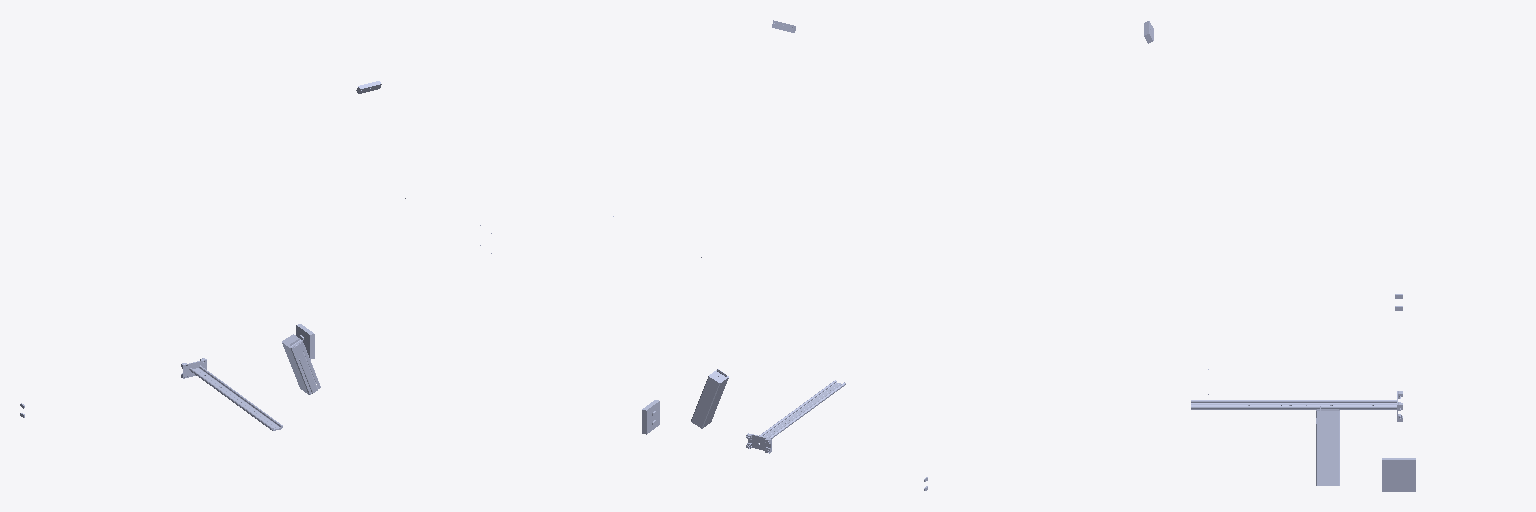
--- Render facts (derived) ---
3 views of the same robot in one strip: view 1: azimuth 30°, elevation 25°; view 2: azimuth 150°, elevation 25°; view 3: azimuth 270°, elevation 25° (orthographic).
Robot: robo_description — 21 links, 20 joints (2 revolute, 2 prismatic, 16 fixed); root link base_link; default pose: all joints at 0 but 1 set to mid-range because 0 is outside their limits (joint5 = 0.4665).
Links seen in each view (by area): view 1: link2, link5; view 2: link2, link5, base_link; view 3: link2, link5, base_link.
Link boxes in pixels (x1,y1,x2,y2): link2: (181, 358, 282, 430); link5: (282, 334, 320, 394); link2: (746, 380, 845, 453); link5: (691, 369, 728, 428); base_link: (642, 400, 927, 490); link2: (1191, 391, 1402, 421); link5: (1316, 406, 1339, 485); base_link: (1382, 294, 1415, 491).
Bounding box of the posed robot: 1.65 × 0.7952 × 1.46 m (x, y, z).
Meshes: 6 distinct files referenced, 4 mesh visuals loaded (4 binary STL); not drawn: 2 (reference not matched to a file when rendering).

robot.urdf — robo_description:
<?xml version="1.0" encoding="utf-8"?>
<!-- 25AUG2023 Changed the minimum limit of lJoint5 to 0.247 and max to 0.686 -->
<!-- This URDF was automatically created by SolidWorks to URDF Exporter! Originally created by Stephen Brawner ([email redacted]) 
     Commit Version: 1.6.0-4-g7f85cfe  Build Version: 1.6.7995.38578
     For more information, please see http://wiki.ros.org/sw_urdf_exporter -->
<robot
  name="robo_description">
  <link
    name="base_link">
    <inertial>
      <origin
        xyz="-5.13826234849775E-17 -1.63904738952765E-17 0.339473684210526"
        rpy="0 0 0" />
      <mass
        value="19" />
      <inertia
        ixx="2.34956140350877"
        ixy="1.11311423041845E-17"
        ixz="3.69215798456927E-16"
        iyy="2.34956140350877"
        iyz="-7.44985984223617E-17"
        izz="0.151666666666667" />
    </inertial>
    <visual>
      <origin
        xyz="0 0 0"
        rpy="0 0 0" />
      <geometry>
        <mesh
          filename="package://robo_description/meshes/base_link.STL" />
      </geometry>
      <material
        name="">
        <color
          rgba="0.792156862745098 0.819607843137255 0.933333333333333 1" />
      </material>
    </visual>
    <collision>
      <origin
        xyz="0 0 0"
        rpy="0 0 0" />
      <geometry>
        <mesh
          filename="package://robo_description/meshes/base_link.STL" />
      </geometry>
    </collision>
  </link>
  <link
    name="link2">
    <inertial>
      <origin
        xyz="-0.001261 -0.2858 0.14572"
        rpy="0 0 0" />
      <mass
        value="3.13280329013611" />
      <inertia
        ixx="0.0169430024052603"
        ixy="-0.00280446630124331"
        ixz="0.0223183329111622"
        iyy="0.162057682822749"
        iyz="0.000505061238040558"
        izz="0.161640952999751" />
    </inertial>
    <visual>
      <origin
        xyz="0 0 -1"
        rpy="0 0 0" />
      <geometry>
        <mesh
          filename="package://robo_description/meshes/link2.STL" />
      </geometry>
      <material
        name="">
        <color
          rgba="0.792156862745098 0.819607843137255 0.933333333333333 1" />
      </material>
    </visual>
    <collision>
      <origin
        xyz="0 0 0"
        rpy="0 0 0" />
      <geometry>
        <mesh
          filename="package://robo_description/meshes/link2.STL" />
      </geometry>
    </collision>
  </link>
  <joint
    name="joint2"
    type="prismatic">
    <origin
      xyz="0.0 0 1"
      rpy="0 0 0" />
    <parent
      link="base_link" />
    <child
      link="link2" />
    <axis
      xyz="0 0 1" />
    <limit
      lower="0"
      upper="1"
      effort="0"
      velocity="0" />
  </joint>
  <link
    name="link4">
    <inertial>
      <origin
        xyz="-0.000438554587764983 0.0620490502692163 -0.172885898172371"
        rpy="0 0 0" />
      <mass
        value="0.162146723185788" />
      <inertia
        ixx="0.00336616371871891"
        ixy="1.46811284877534E-06"
        ixz="-3.57096843523024E-06"
        iyy="0.00312866852492012"
        iyz="0.00048231220150353"
        izz="0.000338308018448651" />
    </inertial>
    <visual>
      <origin
        xyz="-0.4665 0 -0.790"
        rpy="0 0 0" />
      <geometry>
        <mesh
          filename="package://robo_description/meshes/link4.STL" />
      </geometry>
      <material
        name="">
        <color
          rgba="0.792156862745098 0.819607843137255 0.933333333333333 1" />
      </material>
    </visual>
    <collision>
      <origin
        xyz="0 0 0"
        rpy="0 0 0" />
      <geometry>
        <mesh
          filename="package://robo_description/meshes/link4.STL" />
      </geometry>
    </collision>
  </link>
  <joint
    name="joint4"
    type="revolute">
    <origin
      xyz="0.46904 0 -0.21"
      rpy="0 0 0" />
    <parent
      link="link2" />
    <child
      link="link4" />
    <axis
      xyz="0 0 1" />
    <limit
      lower="-2.9671"
      upper="2.9671"
      effort="0"
      velocity="0" />
  </joint>
  <link
    name="link3">
    <inertial>
      <origin
        xyz="-0.0832189655707039 -0.0894795892974461 -0.00179630042130147"
        rpy="0 0 0" />
      <mass
        value="1.71811977068641" />
      <inertia
        ixx="0.00948440583507882"
        ixy="-0.00159429497921182"
        ixz="0.00308193362516688"
        iyy="0.035537875179704"
        iyz="0.000648421421055908"
        izz="0.0305779645247813" />
    </inertial>
    <visual>
      <origin
        xyz="-0.468545 -0.078 -0.43528"
        rpy="0 0 0" />
      <geometry>
        <mesh
          filename="package://robo_description/meshes/link3.STL" />
      </geometry>
      <material
        name="">
        <color
          rgba="0.792156862745098 0.819607843137255 0.933333333333333 1" />
      </material>
    </visual>
    <collision>
      <origin
        xyz="0 0 0"
        rpy="0 0 0" />
      <geometry>
        <mesh
          filename="package://robo_description/meshes/link3.STL" />
      </geometry>
    </collision>
  </link>
  <joint
    name="joint3"
    type="revolute">
    <origin
      xyz="0.0 0.077824 -0.35472"
      rpy="0 0 0" />
    <parent
      link="link4" />
    <child
      link="link3" />
    <axis
      xyz="0 1 0" />
    <limit
      lower="-1.5708"
      upper="1.5708"
      effort="0"
      velocity="0" />
  </joint>
  <link
    name="yanthra_link">
    <inertial>
      <origin
        xyz="-0.0832189655707036 -0.0114795892974462 -0.00179630042130124"
        rpy="0 0 0" />
      <mass
        value="1.71811977068641" />
      <inertia
        ixx="0.00948440583507882"
        ixy="-0.00159429497921182"
        ixz="0.0030819336251669"
        iyy="0.035537875179704"
        iyz="0.000648421421055907"
        izz="0.0305779645247813" />
    </inertial>
    <visual>
      <origin
        xyz="0 0 0"
        rpy="0 0 0" />
      <geometry>
        <box size="0.001 0.001 0.001"/>
      </geometry>
      <material
        name="">
        <color
          rgba="0.792156862745098 0.819607843137255 0.933333333333333 1" />
      </material>
    </visual>
    <collision>
      <origin
        xyz="0 0 0"
        rpy="0 0 0" />
      <geometry>
        <box size="0.001 0.001 0.001"/>
      </geometry>
    </collision>
  </link>
  <joint
    name="yanthra_joint"
    type="fixed">
    <origin
      xyz="0 -0.078 0"
      rpy="0 0 0" />
    <parent
      link="link3" />
    <child
      link="yanthra_link" />
    <axis
      xyz="0 0 0" />
  </joint>
  <link
    name="link5_origin">
    <inertial>
      <origin
        xyz="-0.00874999999999998 0.0375 -0.00507843424240889"
        rpy="0 0 0" />
      <mass
        value="0.0438088883035136" />
      <inertia
        ixx="3.24913884800222E-05"
        ixy="1.33063310958086E-21"
        ixz="-8.470329472543E-22"
        iyy="3.99574478810853E-06"
        iyz="-3.38875204913906E-21"
        izz="3.07317223657389E-05" />
    </inertial>
    <visual>
      <origin
        xyz="0 0 0"
        rpy="0 0 0" />
      <geometry>
        <box size="0.001 0.001 0.001"/>
      </geometry>
      <material
        name="">
        <color
          rgba="0.792156862745098 0.819607843137255 0.933333333333333 1" />
      </material>
    </visual>
    <collision>
      <origin
        xyz="0 0 0"
        rpy="0 0 0" />
      <geometry>
        <box size="0.001 0.001 0.001"/>
      </geometry>
    </collision>
  </link>
  <joint
    name="link5_origin_joint"
    type="fixed">
    <origin
      xyz="0 0 0.0"
      rpy="0 0 0" />
    <parent	
      link="yanthra_link" />
    <child
      link="link5_origin" />
    <axis
      xyz="0 0 0" />
  </joint>
  <link
    name="link5">
    <inertial>
      <origin
        xyz="0.108132413871145 2.08242781028485E-06 0.00569147154470495"
        rpy="0 0 0" />
      <mass
        value="0.277404400359573" />
      <inertia
        ixx="0.00021628976171093"
        ixy="1.27900715148446E-06"
        ixz="-0.000135093187106687"
        iyy="0.00359200319167061"
        iyz="-8.36237914028336E-08"
        izz="0.00358633509004247" />
    </inertial>
    <visual>
      <origin
        xyz="-0.715545 0 -0.43528"
        rpy="0 0 0" />
      <geometry>
        <mesh
          filename="package://robo_description/meshes/link5.STL" />
      </geometry>
      <material
        name="">
        <color
          rgba="0.792156862745098 0.819607843137255 0.933333333333333 1" />
      </material>
    </visual>
    <collision>
      <origin
        xyz="0 0 0"
        rpy="0 0 0" />
      <geometry>
        <mesh
          filename="package://robo_description/meshes/link5.STL" />
      </geometry>
    </collision>
  </link>
  <joint
    name="joint5"
    type="prismatic">
    <origin
      xyz="0.0 0 0"
      rpy="0 0 0" />
    <parent
      link="link5_origin" />
    <child
      link="link5" />
    <axis
      xyz="1 0 0" />
    <limit
      lower="0.247"
      upper="0.686"
      effort="0"
      velocity="0" />
  </joint>
  <link
    name="ee_link">
    <inertial>
      <origin
        xyz="-0.00874999999999998 0.0375 -0.00507843424240889"
        rpy="0 0 0" />
      <mass
        value="0.0438088883035136" />
      <inertia
        ixx="3.24913884800222E-05"
        ixy="1.33063310958086E-21"
        ixz="-8.470329472543E-22"
        iyy="3.99574478810853E-06"
        iyz="-3.38875204913906E-21"
        izz="3.07317223657389E-05" />
    </inertial>
    <visual>
      <origin
        xyz="0 0 0"
        rpy="0 0 0" />
      <geometry>
        <box size="0.001 0.001 0.001"/>
      </geometry>
      <material
        name="">
        <color
          rgba="0.792156862745098 0.819607843137255 0.933333333333333 1" />
      </material>
    </visual>
    <collision>
      <origin
        xyz="0 0 0"
        rpy="0 0 0" />
      <geometry>
        <box size="0.001 0.001 0.001"/>
      </geometry>
    </collision>
  </link>
  <joint
    name="ee_joint"
    type="fixed">
    <origin
      xyz="-0.085 0 0"
      rpy="0 0 0" />
    <parent	
      link="link5" />
    <child
      link="ee_link" />
    <axis
      xyz="0 0 0" />
  </joint>
  <link
    name="aruco_marker_link">
    <inertial>
      <origin
        xyz="-0.00874999999999998 0.0375 -0.00507843424240889"
        rpy="0 0 0" />
      <mass
        value="0.0438088883035136" />
      <inertia
        ixx="3.24913884800222E-05"
        ixy="1.33063310958086E-21"
        ixz="-8.470329472543E-22"
        iyy="3.99574478810853E-06"
        iyz="-3.38875204913906E-21"
        izz="3.07317223657389E-05" />
    </inertial>
    <visual>
      <origin
        xyz="0 0 0"
        rpy="0 0 0" />
      <geometry>
        <box size="0.001 0.001 0.001"/>
      </geometry>
      <material
        name="">
        <color
          rgba="0.792156862745098 0.819607843137255 0.933333333333333 1" />
      </material>
    </visual>
    <collision>
      <origin
        xyz="0 0 0"
        rpy="0 0 0" />
      <geometry>
        <box size="0.001 0.001 0.001"/>
      </geometry>
    </collision>
  </link>
  <joint
    name="aruco_joint"
    type="fixed">
    <origin
      xyz="0.0 0 0.08"
      rpy="0 0 0" />
    <parent	
      link="ee_link" />
    <child
      link="aruco_marker_link" />
    <axis
      xyz="0 0 0" />
  </joint>
  <link
    name="aruco_link_1">
    <inertial>
      <origin
        xyz="-0.00874999999999998 0.0375 -0.00507843424240889"
        rpy="0 0 0" />
      <mass
        value="0.0438088883035136" />
      <inertia
        ixx="3.24913884800222E-05"
        ixy="1.33063310958086E-21"
        ixz="-8.470329472543E-22"
        iyy="3.99574478810853E-06"
        iyz="-3.38875204913906E-21"
        izz="3.07317223657389E-05" />
    </inertial>
    <visual>
      <origin
        xyz="0 0 0"
        rpy="0 0 0" />
      <geometry>
        <box size="0.001 0.001 0.001"/>
      </geometry>
      <material
        name="">
        <color
          rgba="0.792156862745098 0.819607843137255 0.933333333333333 1" />
      </material>
    </visual>
    <collision>
      <origin
        xyz="0 0 0"
        rpy="0 0 0" />
      <geometry>
        <box size="0.001 0.001 0.001"/>
      </geometry>
    </collision>
  </link>
  <joint
    name="aruco_joint_1"
    type="fixed">
    <origin
      xyz="0.0 0.04 0.04"
      rpy="0 0 0" />
    <parent	
      link="aruco_marker_link" />
    <child
      link="aruco_link_1" />
    <axis
      xyz="0 0 0" />
  </joint>
  <link
    name="aruco_link_2">
    <inertial>
      <origin
        xyz="-0.00874999999999998 0.0375 -0.00507843424240889"
        rpy="0 0 0" />
      <mass
        value="0.0438088883035136" />
      <inertia
        ixx="3.24913884800222E-05"
        ixy="1.33063310958086E-21"
        ixz="-8.470329472543E-22"
        iyy="3.99574478810853E-06"
        iyz="-3.38875204913906E-21"
        izz="3.07317223657389E-05" />
    </inertial>
    <visual>
      <origin
        xyz="0 0 0"
        rpy="0 0 0" />
      <geometry>
        <box size="0.001 0.001 0.001"/>
      </geometry>
      <material
        name="">
        <color
          rgba="0.792156862745098 0.819607843137255 0.933333333333333 1" />
      </material>
    </visual>
    <collision>
      <origin
        xyz="0 0 0"
        rpy="0 0 0" />
      <geometry>
        <box size="0.001 0.001 0.001"/>
      </geometry>
    </collision>
  </link>
  <joint
    name="aruco_joint_2"
    type="fixed">
    <origin
      xyz="0.0 -0.04 0.04"
      rpy="0 0 0" />
    <parent	
      link="aruco_marker_link" />
    <child
      link="aruco_link_2" />
    <axis
      xyz="0 0 0" />
  </joint>
  <link
    name="aruco_link_3">
    <inertial>
      <origin
        xyz="-0.00874999999999998 0.0375 -0.00507843424240889"
        rpy="0 0 0" />
      <mass
        value="0.0438088883035136" />
      <inertia
        ixx="3.24913884800222E-05"
        ixy="1.33063310958086E-21"
        ixz="-8.470329472543E-22"
        iyy="3.99574478810853E-06"
        iyz="-3.38875204913906E-21"
        izz="3.07317223657389E-05" />
    </inertial>
    <visual>
      <origin
        xyz="0 0 0"
        rpy="0 0 0" />
      <geometry>
        <box size="0.001 0.001 0.001"/>
      </geometry>
      <material
        name="">
        <color
          rgba="0.792156862745098 0.819607843137255 0.933333333333333 1" />
      </material>
    </visual>
    <collision>
      <origin
        xyz="0 0 0"
        rpy="0 0 0" />
      <geometry>
        <box size="0.001 0.001 0.001"/>
      </geometry>
    </collision>
  </link>
  <joint
    name="aruco_joint_3"
    type="fixed">
    <origin
      xyz="0.0 0.04 -0.04"
      rpy="0 0 0" />
    <parent	
      link="aruco_marker_link" />
    <child
      link="aruco_link_3" />
    <axis
      xyz="0 0 0" />
  </joint>
  <link
    name="aruco_link_4">
    <inertial>
      <origin
        xyz="-0.00874999999999998 0.0375 -0.00507843424240889"
        rpy="0 0 0" />
      <mass
        value="0.0438088883035136" />
      <inertia
        ixx="3.24913884800222E-05"
        ixy="1.33063310958086E-21"
        ixz="-8.470329472543E-22"
        iyy="3.99574478810853E-06"
        iyz="-3.38875204913906E-21"
        izz="3.07317223657389E-05" />
    </inertial>
    <visual>
      <origin
        xyz="0 0 0"
        rpy="0 0 0" />
      <geometry>
        <box size="0.001 0.001 0.001"/>
      </geometry>
      <material
        name="">
        <color
          rgba="0.792156862745098 0.819607843137255 0.933333333333333 1" />
      </material>
    </visual>
    <collision>
      <origin
        xyz="0 0 0"
        rpy="0 0 0" />
      <geometry>
        <box size="0.001 0.001 0.001"/>
      </geometry>
    </collision>
  </link>
  <joint
    name="aruco_joint_4"
    type="fixed">
    <origin
      xyz="0.0 -0.04 -0.04"
      rpy="0 0 0" />
    <parent	
      link="aruco_marker_link" />
    <child
      link="aruco_link_4" />
    <axis
      xyz="0 0 0" />
  </joint>
  <link
    name="link7">
    <inertial>
      <origin
        xyz="-0.00129487747822488 -0.0114795892973884 0.11996423535158"
        rpy="0 0 0" />
      <mass
        value="1.71811977068641" />
      <inertia
        ixx="0.0113386071435481"
        ixy="-0.00171490439294498"
        ixz="-0.00672100859249017"
        iyy="0.0355378751797041"
        iyz="-0.0001460470577602"
        izz="0.0287237632163119" />
    </inertial>
    <visual>
      <origin
        xyz="0 0 0"
        rpy="0 0 0" />
      <geometry>
        <box size="0.001 0.001 0.001"/>
      </geometry>
      <material
        name="">
        <color
          rgba="0.792156862745098 0.819607843137255 0.933333333333333 1" />
      </material>
    </visual>
    <collision>
      <origin
        xyz="0 0 0"
        rpy="0 0 0" />
      <geometry>
        <box size="0.001 0.001 0.001"/>
      </geometry>
    </collision>
  </link>
  <joint
    name="joint7"
    type="fixed">
    <origin
      xyz="0.47229 -0.069971 0.79711"
      rpy="0 0.785398 -1.5708" />
    <parent
      link="base_link"/>
    <child
      link="link7"/>
    <axis
      xyz="0 0 0" />
  </joint>
  <link
    name="camera_mount_link">
    <inertial>
      <origin
        xyz="-0.00129487747822488 -0.0114795892973883 0.11996423535158"
        rpy="0 0 0" />
      <mass
        value="1.71811977068641" />
      <inertia
        ixx="0.0113386071435481"
        ixy="-0.00171490439294498"
        ixz="-0.00672100859249018"
        iyy="0.0355378751797041"
        iyz="-0.000146047057760202"
        izz="0.0287237632163119" />
    </inertial>
    <visual>
      <origin
        xyz="0 0 0"
        rpy="0 0 0" />
      <geometry>
        <box size="0.001 0.001 0.001"/>
      </geometry>
      <material
        name="">
        <color
          rgba="0.792156862745098 0.819607843137255 0.933333333333333 1" />
      </material>
    </visual>
    <collision>
      <origin
        xyz="0 0 0"
        rpy="0 0 0" />
      <geometry>
        <box size="0.001 0.001 0.001"/>
      </geometry>
    </collision>
  </link>
     <!--Realsense Camera depth is 20 mm from back to glass, But the depth start point(GROUND ZERO REFERENCE i.e depth is Zero) is 1.1 mm behind glass-->
     <!--Camera thickness-Zero Ref +Plate thick=20-1.1+2 = 20.09 mm -->
     <!-- xyz="0.0209 -0.0375 0"-->
  <joint
    name="camera_mount_joint"
    type="fixed">
    <origin
      xyz="0.02090 -0.0375 0"
      rpy="-1.5708 0 -1.5708" />
    <parent
      link="link7" />
    <child
      link="camera_mount_link" />
    <axis
      xyz="0 0 0" />
  </joint>
  <link
    name="virtual_cam_link">
    <inertial>
      <origin
        xyz="-0.00874999999999998 0.0375 -0.00507843424240889"
        rpy="0 0 0" />
      <mass
        value="0.0438088883035136" />
      <inertia
        ixx="3.24913884800222E-05"
        ixy="1.33063310958086E-21"
        ixz="-8.470329472543E-22"
        iyy="3.99574478810853E-06"
        iyz="-3.38875204913906E-21"
        izz="3.07317223657389E-05" />
    </inertial>
    <visual>
      <origin
        xyz="0 0 0"
        rpy="0 0 0" />
      <geometry>
        <box size="0.001 0.001 0.001"/>
      </geometry>
      <material
        name="">
        <color
          rgba="0.792156862745098 0.819607843137255 0.933333333333333 1" />
      </material>
    </visual>
    <collision>
      <origin
        xyz="0 0 0"
        rpy="0 0 0" />
      <geometry>
        <box size="0.001 0.001 0.001"/>
      </geometry>
    </collision>
  </link>
  <joint
    name="virtual_cam_link_joint"
    type="fixed">
    <origin
      xyz="0 0 0"
      rpy="0 0 0" />
    <parent	
      link="camera_mount_link" />
    <child
      link="virtual_cam_link" />
    <axis
      xyz="0 0 0" />
  </joint>

  <link
    name="camera_link">
    <inertial>
      <origin
        xyz="-0.00874999999999998 0.0375 -0.00507843424240889"
        rpy="0 0 0" />
      <mass
        value="0.0438088883035136" />
      <inertia
        ixx="3.24913884800222E-05"
        ixy="1.33063310958086E-21"
        ixz="-8.470329472543E-22"
        iyy="3.99574478810853E-06"
        iyz="-3.38875204913906E-21"
        izz="3.07317223657389E-05" />
    </inertial>
    <visual>
      <origin
        xyz="-0.03768 -0.425 -0.175"
        rpy="0 -2.04 -1.5708" />
      <geometry>
        <mesh
          filename="package://robo_description/meshes/camera_link.STL" />
      </geometry>
      <material
        name="">
        <color
          rgba="0.792156862745098 0.819607843137255 0.933333333333333 1" />
      </material>
    </visual>
    <collision>
      <origin
        xyz="0 0 0"
        rpy="0 0 0" />
      <geometry>
        <mesh
          filename="package://robo_description/meshes/camera_link.STL" />
      </geometry>
    </collision>
  </link>
  <joint
    name="camera_link_joint"
    type="fixed">
    <origin
      xyz="0.0 0 0"
      rpy="0 0 0" />
    <parent
      link="virtual_cam_link" />
    <child
      link="camera_link" />
    <axis
      xyz="0 0 0" />
  </joint>

  <link name="camera_depth_frame">

    <visual>

    <origin xyz="0 0 0" rpy="0 0 0" />

      <geometry>

        <box size="0.001 0.001 0.001"/>

      </geometry>

    </visual>

  </link>

  <joint name="camera_depth_frame_joint" type="fixed">

    <origin rpy="0 0 0" xyz="0 0 0"/>

    <parent link="camera_link"/>

    <child link="camera_depth_frame"/>

  </joint>

  <link name="camera_depth_optical_frame">

    <visual>

    <origin xyz="0 0 0" rpy="0 0 0" />

      <geometry>

        <box size="0.001 0.001 0.001"/>

      </geometry>

    </visual>

  </link>

  <joint name="camera_depth_optical_frame_joint" type="fixed">

   <origin rpy="0 0 0" xyz="0 0 0"/>

   <parent link="camera_depth_frame"/>

   <child link="camera_depth_optical_frame"/>

  </joint>

  <link name="camera_color_frame">

    <visual>

    <origin xyz="0 0 0" rpy="0 0 0" />

      <geometry>

        <box size="0.001 0.001 0.001"/>

      </geometry>

    </visual>

  </link>

  <joint name="camera_color_frame_joint" type="fixed">

    <origin rpy="0 0 0" xyz="0 0 0"/>

    <parent link="camera_link"/>

    <child link="camera_color_frame"/>

  </joint>

  <link name="camera_color_optical_frame">

    <visual>

    <origin xyz="0 0 0" rpy="0 0 0" />

      <geometry>

        <box size="0.001 0.001 0.001"/>

      </geometry>

    </visual>

  </link>

  <joint name="camera_color_optical_frame_joint" type="fixed">

   <origin rpy="0 0 0" xyz="0 0 0"/>

   <parent link="camera_color_frame"/>

   <child link="camera_color_optical_frame"/>

  </joint>
  <gazebo reference="stand">

    <material>Gazebo/Grey</material>

  </gazebo>

  <gazebo reference="link3">

    <material>Gazebo/Green</material>

  </gazebo>

  <gazebo reference="link4">

    <material>Gazebo/Red</material>

  </gazebo>

  <gazebo reference="link5">

    <material>Gazebo/Green</material>

  </gazebo>

  <gazebo reference="link9">

    <material>Gazebo/Red</material>

  </gazebo>

  <gazebo reference="link6">

    <material>Gazebo/White</material>

  </gazebo>

  <transmission name="tran1">

    <type>transmission_interface/SimpleTransmission</type>

    <joint name="joint3">

      <hardwareInterface>hardware_interface/PositionJointInterface</hardwareInterface>

    </joint>

    <actuator name="motor1">

      <hardwareInterface>hardware_interface/PositionJointInterface</hardwareInterface>

      <mechanicalReduction>1</mechanicalReduction>

    </actuator>

  </transmission>

  <transmission name="tran1">

    <type>transmission_interface/SimpleTransmission</type>

    <joint name="joint4">

      <hardwareInterface>hardware_interface/PositionJointInterface</hardwareInterface>

    </joint>

    <actuator name="motor1">

      <hardwareInterface>hardware_interface/PositionJointInterface</hardwareInterface>

      <mechanicalReduction>1</mechanicalReduction>

    </actuator>

  </transmission>

  <transmission name="tran1">

    <type>transmission_interface/SimpleTransmission</type>

    <joint name="joint5">

      <hardwareInterface>hardware_interface/PositionJointInterface</hardwareInterface>

    </joint>

    <actuator name="motor1">

      <hardwareInterface>hardware_interface/PositionJointInterface</hardwareInterface>

      <mechanicalReduction>1</mechanicalReduction>

    </actuator>

  </transmission>

  <gazebo>

    <plugin filename="libgazebo_ros_control.so" name="gazebo_ros_control">

      <robotNameSpace>/arm_controller</robotNameSpace>

    </plugin>

  </gazebo>

</robot>
